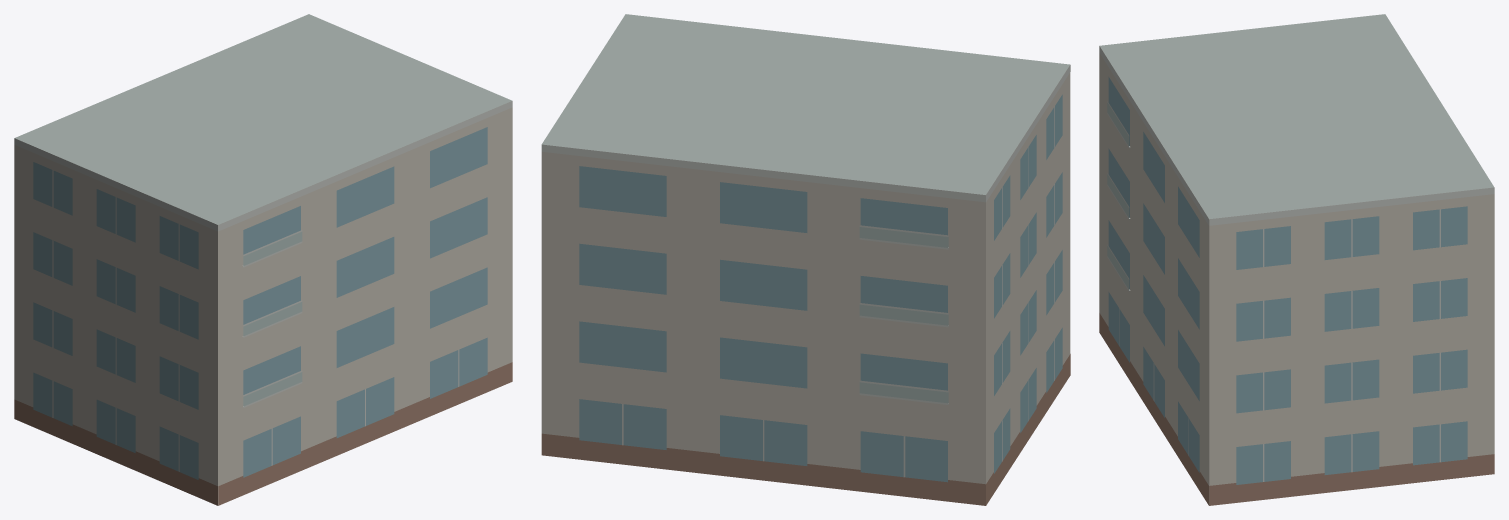
The model's file is survey-upis-32716186.glb.
The picture shows the model from 3 angles, left to right: view 1: azimuth 30°, elevation 25°; view 2: azimuth 150°, elevation 25°; view 3: azimuth 270°, elevation 25°; orthographic projection. The views are drawn at different scales.
Parts seen in each view (by area): view 1: survey-upis-32716186.tmp; view 2: survey-upis-32716186.tmp; view 3: survey-upis-32716186.tmp.
Part boxes in pixels (box(x1,y1,x2,y2)): survey-upis-32716186.tmp: box(14, 14, 512, 505); survey-upis-32716186.tmp: box(541, 14, 1070, 505); survey-upis-32716186.tmp: box(1099, 14, 1494, 505).
Size of the model in its own units: 16.13 by 10.5 by 13.13.
